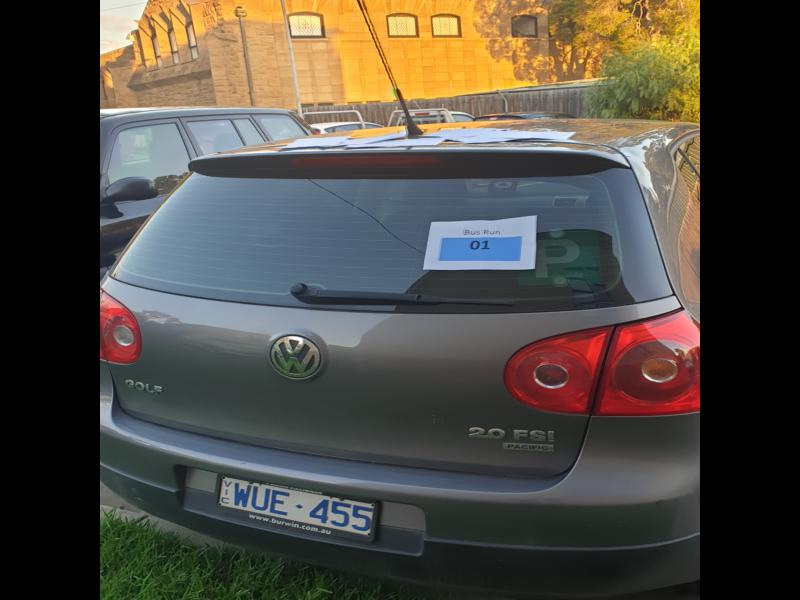BusRun: (440, 237, 524, 261)
PlateNo: (219, 474, 377, 535)
